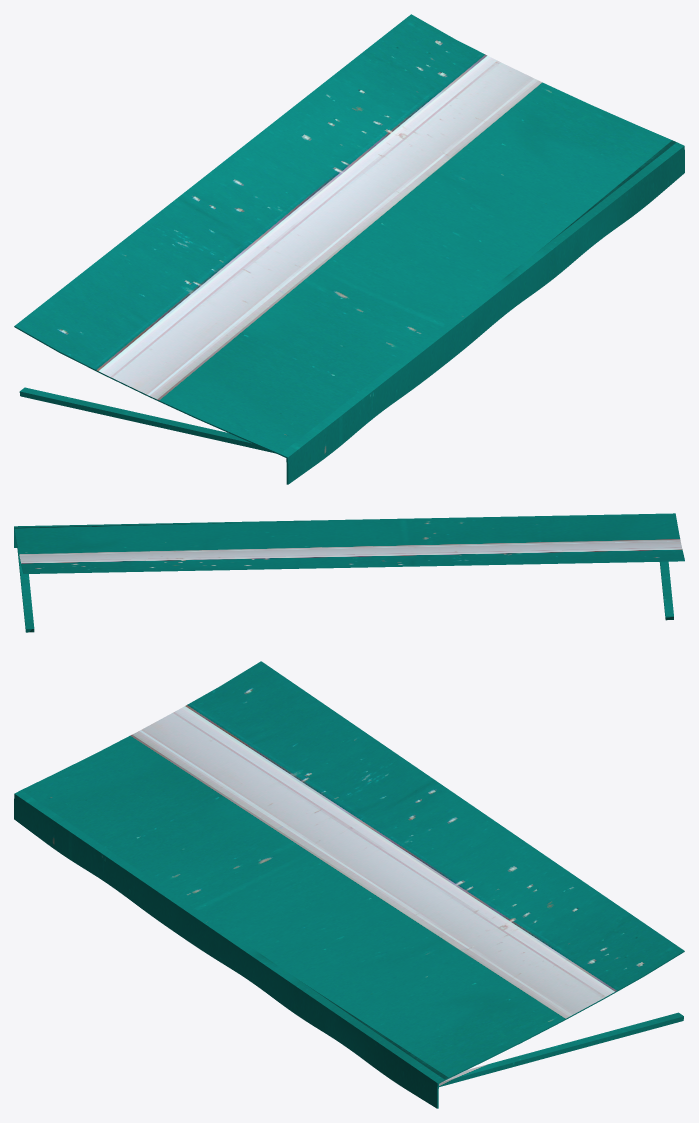
Rendered from toldo.fbx.
The picture shows the model from 3 angles, top to bottom: view 1: azimuth 30°, elevation 25°; view 2: azimuth 150°, elevation 25°; view 3: azimuth 270°, elevation 25°; orthographic projection. The views are drawn at different scales.
Parts seen in each view (by area): view 1: Optica.001; view 2: Optica.001; view 3: Optica.001.
Part boxes in pixels (bbox=[...]): Optica.001: bbox=[14, 14, 684, 484]; Optica.001: bbox=[14, 513, 684, 632]; Optica.001: bbox=[14, 661, 684, 1108].
Bounding box in the file's own units: 1035 × 134 × 834.
